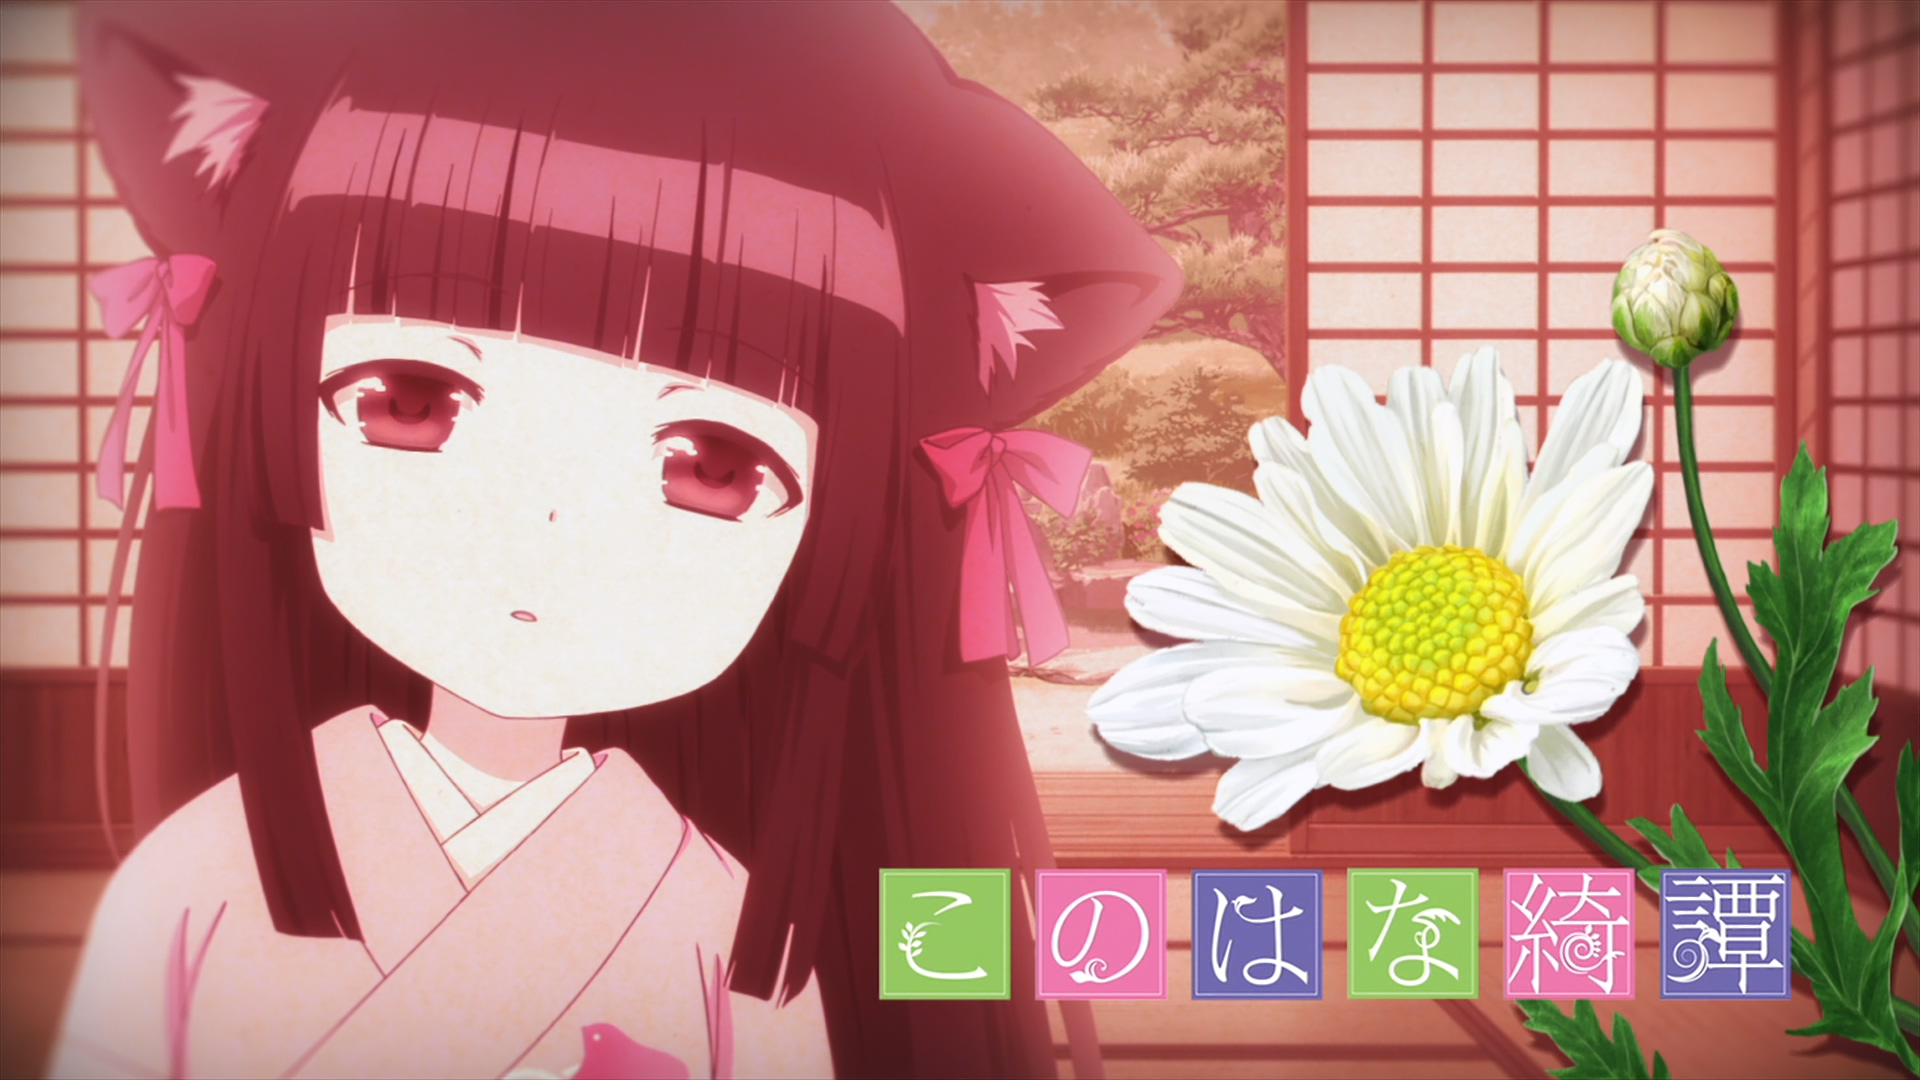樱: (51, 1, 1185, 1080)
